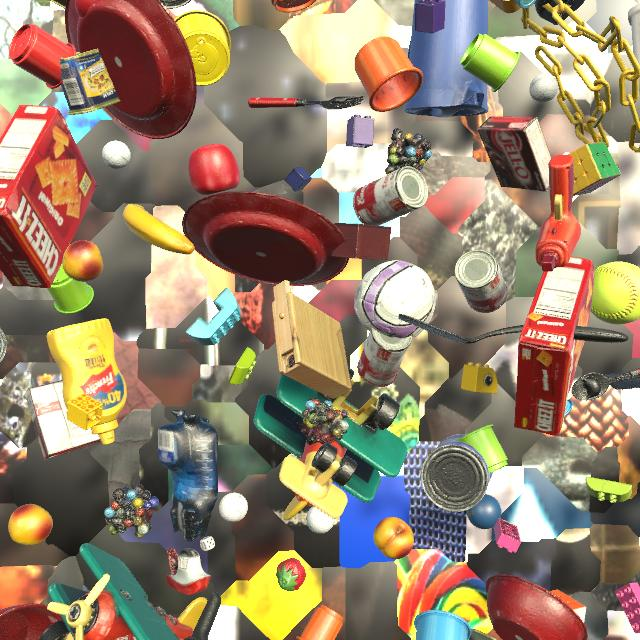ycb_002_master_chef_can: (421, 434, 493, 512), (160, 0, 191, 9)
ycb_003_cracker_box: (0, 105, 98, 288), (514, 257, 594, 436), (113, 634, 136, 640)
ycb_005_tomato_soup_can: (353, 166, 428, 226), (454, 249, 508, 313), (357, 328, 412, 387)
ycb_006_mustard_bottle: (47, 318, 127, 445)
ycb_007_tuna_fish_can: (0, 328, 7, 362)
ycb_008_pudding_box: (25, 380, 102, 460), (478, 116, 551, 192)
ycb_010_potted_meat_can: (59, 49, 121, 115), (469, 628, 497, 640), (50, 0, 66, 9)
ycb_011_banana: (123, 204, 195, 255)
ycb_012_strawberry: (276, 558, 306, 591)
ycb_013_apple: (188, 144, 240, 195), (75, 0, 95, 17)
ycb_015_peach: (8, 504, 53, 546), (62, 240, 103, 282), (373, 517, 414, 559)
